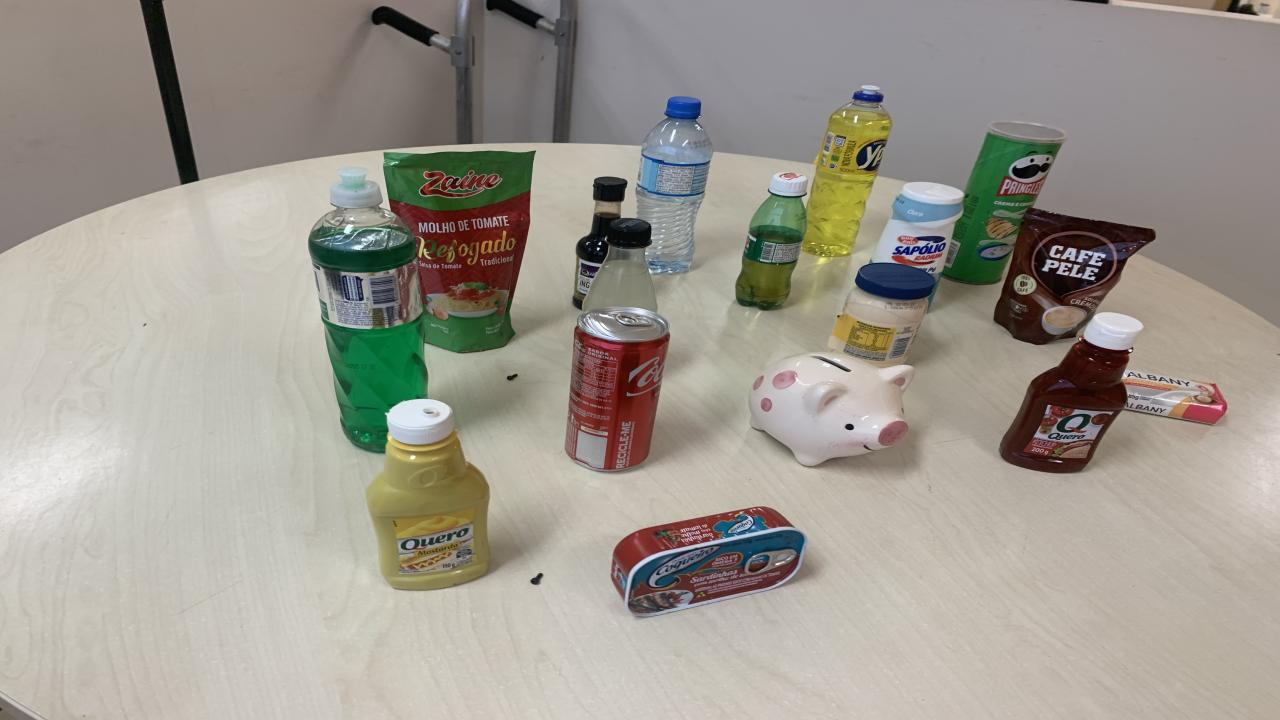Cleaner-Cleanup_Items: (872, 182, 965, 300)
Coffee-Pantry_Items: (995, 208, 1155, 345)
Coke-Drinks: (565, 308, 670, 471)
Detergent-Cleanup_Items: (308, 167, 428, 452), (802, 84, 892, 257)
English_Sauce-Pantry_Items: (572, 176, 628, 308)
Guarana-Drinks: (735, 172, 808, 309)
Ketchup-Pantry_Items: (1000, 311, 1142, 472)
Mayonnaise-Pantry_Items: (828, 262, 935, 368)
Mustard-Pantry_Items: (368, 398, 490, 589)
Pig_Safe-Miscellaneous: (750, 352, 915, 467)
Pringles-Snacks: (942, 122, 1068, 283)
Soap-Cleanup_Items: (1122, 371, 1228, 424)
Soda-Drinks: (582, 218, 658, 311)
Tomato_Sauce-Pantry_Items: (382, 150, 535, 352)
Tuna_Can-Pantry_Items: (610, 506, 808, 617)
Water_Bottle-Drinks: (635, 96, 712, 274)
